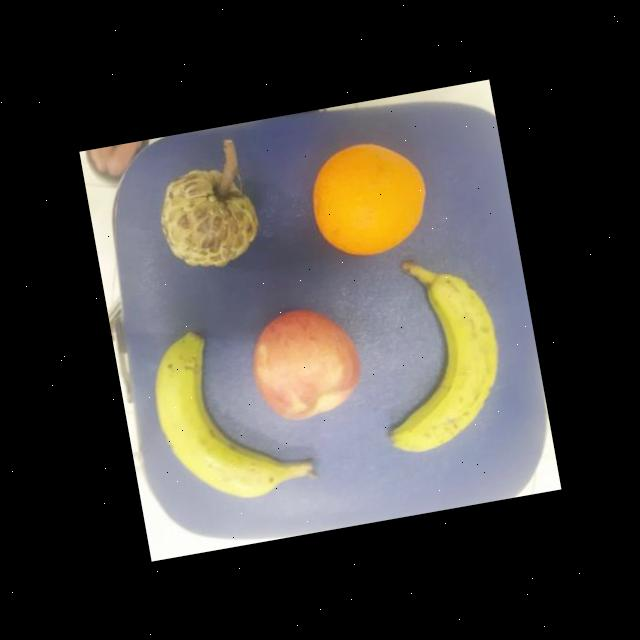Sakya fruit: (154, 161, 266, 275)
apple: (244, 301, 368, 427)
banana: (144, 315, 320, 512), (359, 246, 514, 456)
orange: (302, 133, 436, 264)
